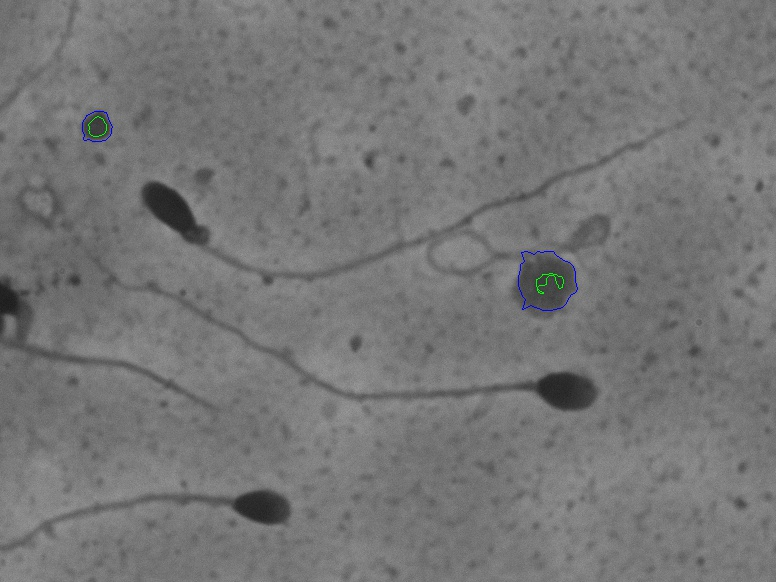Abnormal: (127, 100, 700, 296)
Normal: (34, 206, 614, 429), (17, 455, 322, 569)
